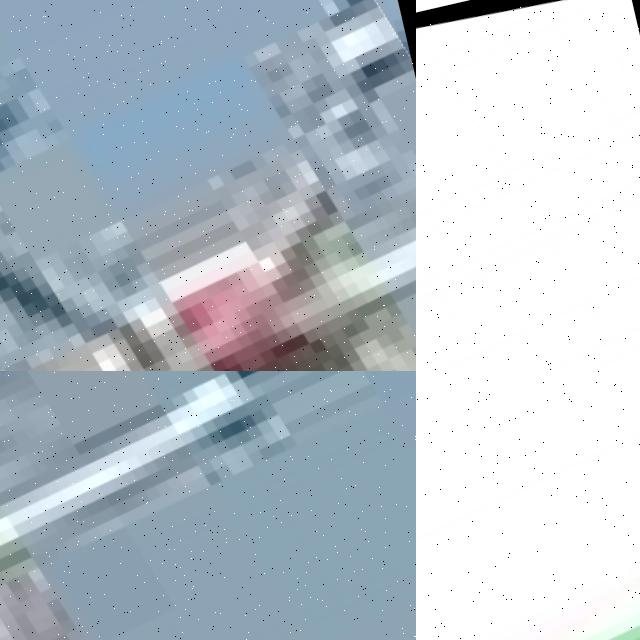drone: (0, 0, 416, 371), (0, 371, 416, 640), (416, 0, 640, 371), (416, 371, 640, 640)
